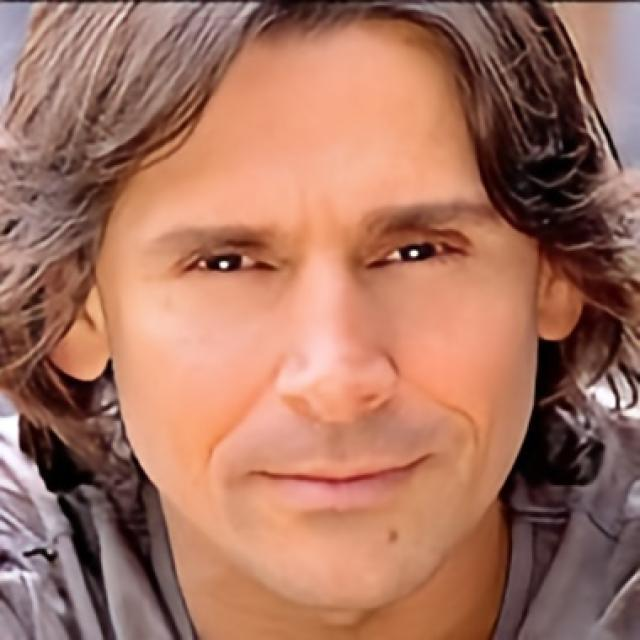content: (97, 8, 539, 611)
